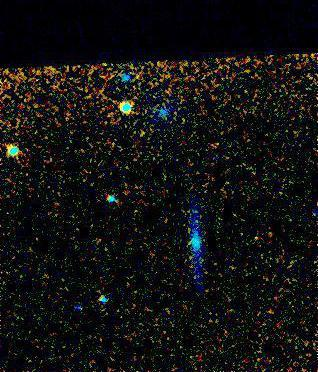star: (127, 119, 157, 149)
